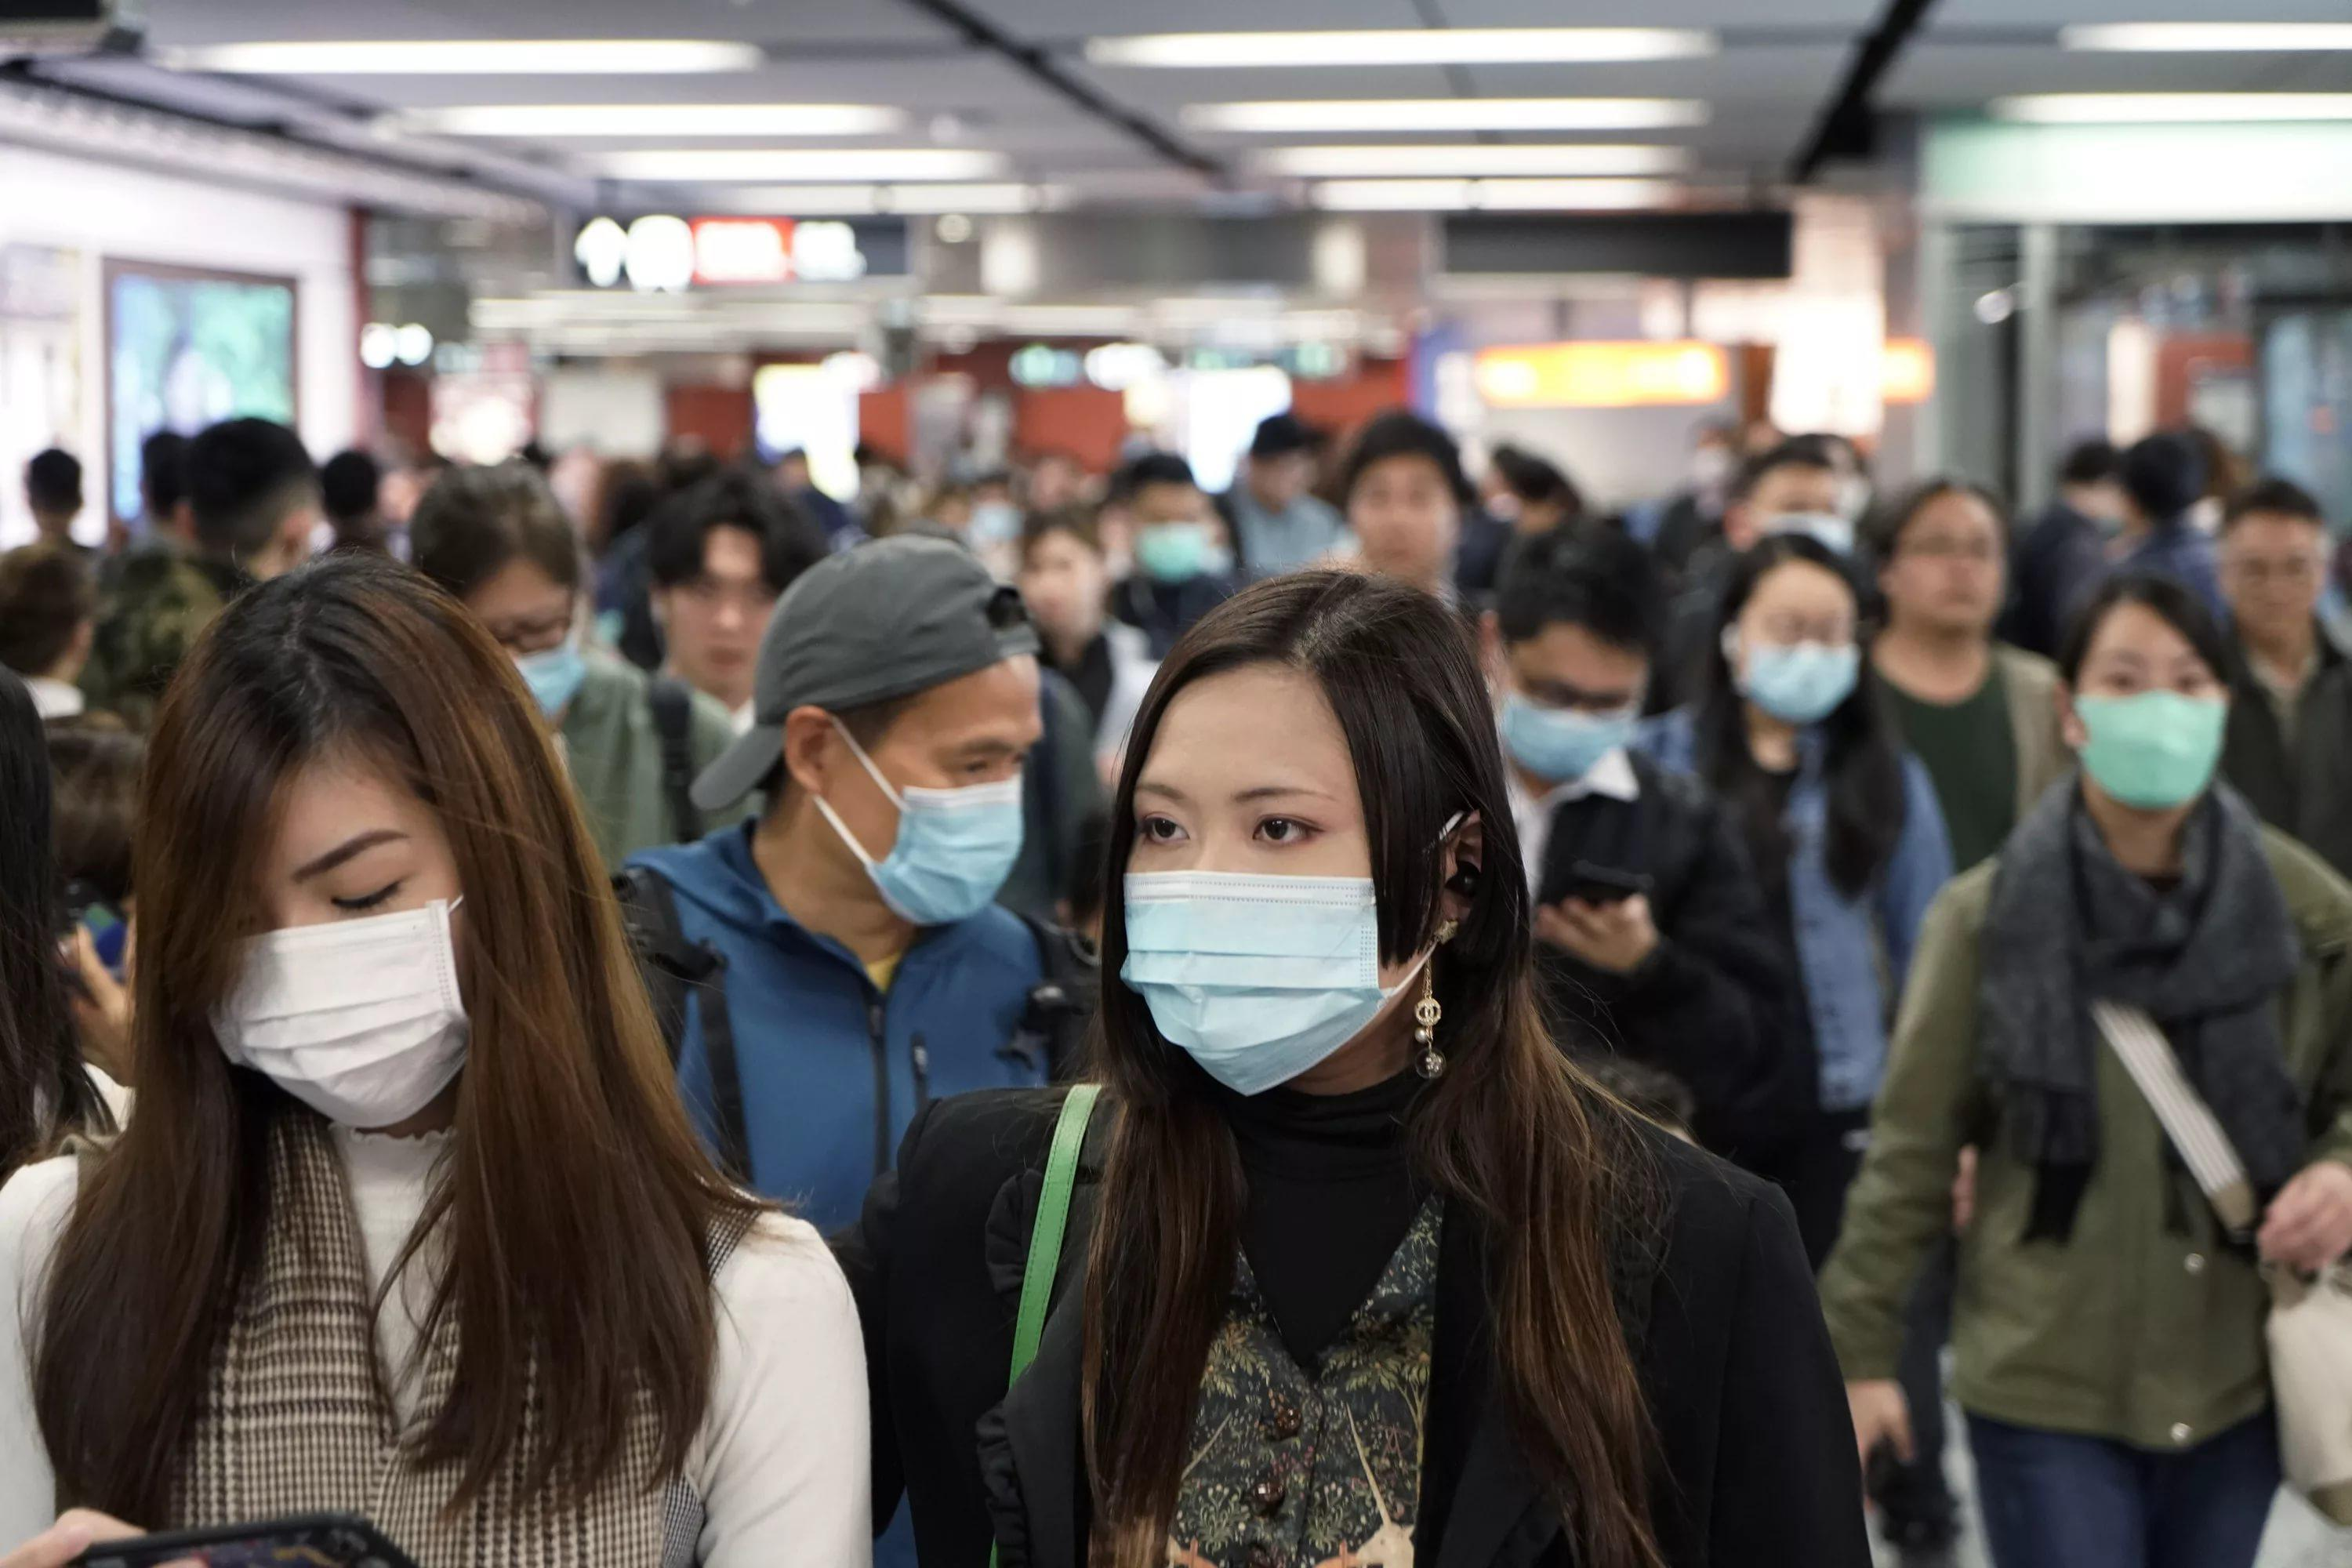mask: (199, 733, 471, 1132), (1129, 700, 1384, 1092), (849, 674, 1047, 926), (431, 528, 585, 714), (2074, 607, 2219, 801), (1500, 618, 1647, 782), (1741, 581, 1848, 721), (1741, 462, 1853, 555)
none: (675, 537, 789, 691), (1894, 504, 2009, 632), (1360, 450, 1456, 567), (2231, 514, 2327, 630)
